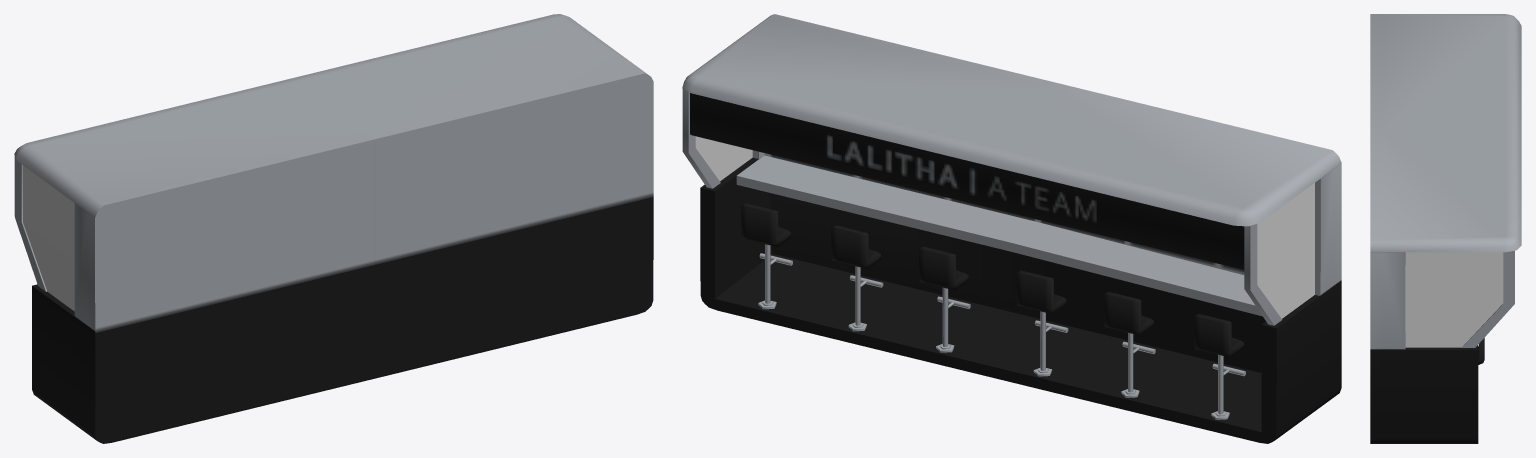
Rendered from T2_PitWall_T3.fbx.
The picture shows the model from 3 angles, left to right: view 1: azimuth 30°, elevation 25°; view 2: azimuth 150°, elevation 25°; view 3: azimuth 270°, elevation 25°; orthographic projection. The views are drawn at different scales.
Visible parts, largest first — view 1: T2_PitWall_T3, T2_PitWall_alpha; view 2: T2_PitWall_T3, T2_PitWall_alpha; view 3: T2_PitWall_T3, T2_PitWall_alpha.
Part boxes in pixels (left/top/right/bottom): T2_PitWall_T3: left=14, top=14, right=653, bottom=443; T2_PitWall_alpha: left=23, top=165, right=74, bottom=311; T2_PitWall_T3: left=682, top=14, right=1341, bottom=443; T2_PitWall_alpha: left=695, top=136, right=1314, bottom=318; T2_PitWall_T3: left=1370, top=14, right=1521, bottom=443; T2_PitWall_alpha: left=1405, top=252, right=1503, bottom=347.
Size of the model in its own units: 2.91 by 1.19 by 0.7976.
